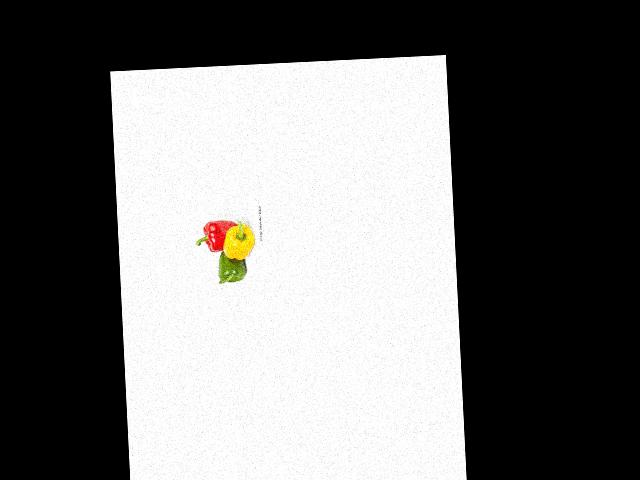bell_pepper: (195, 216, 236, 253)
